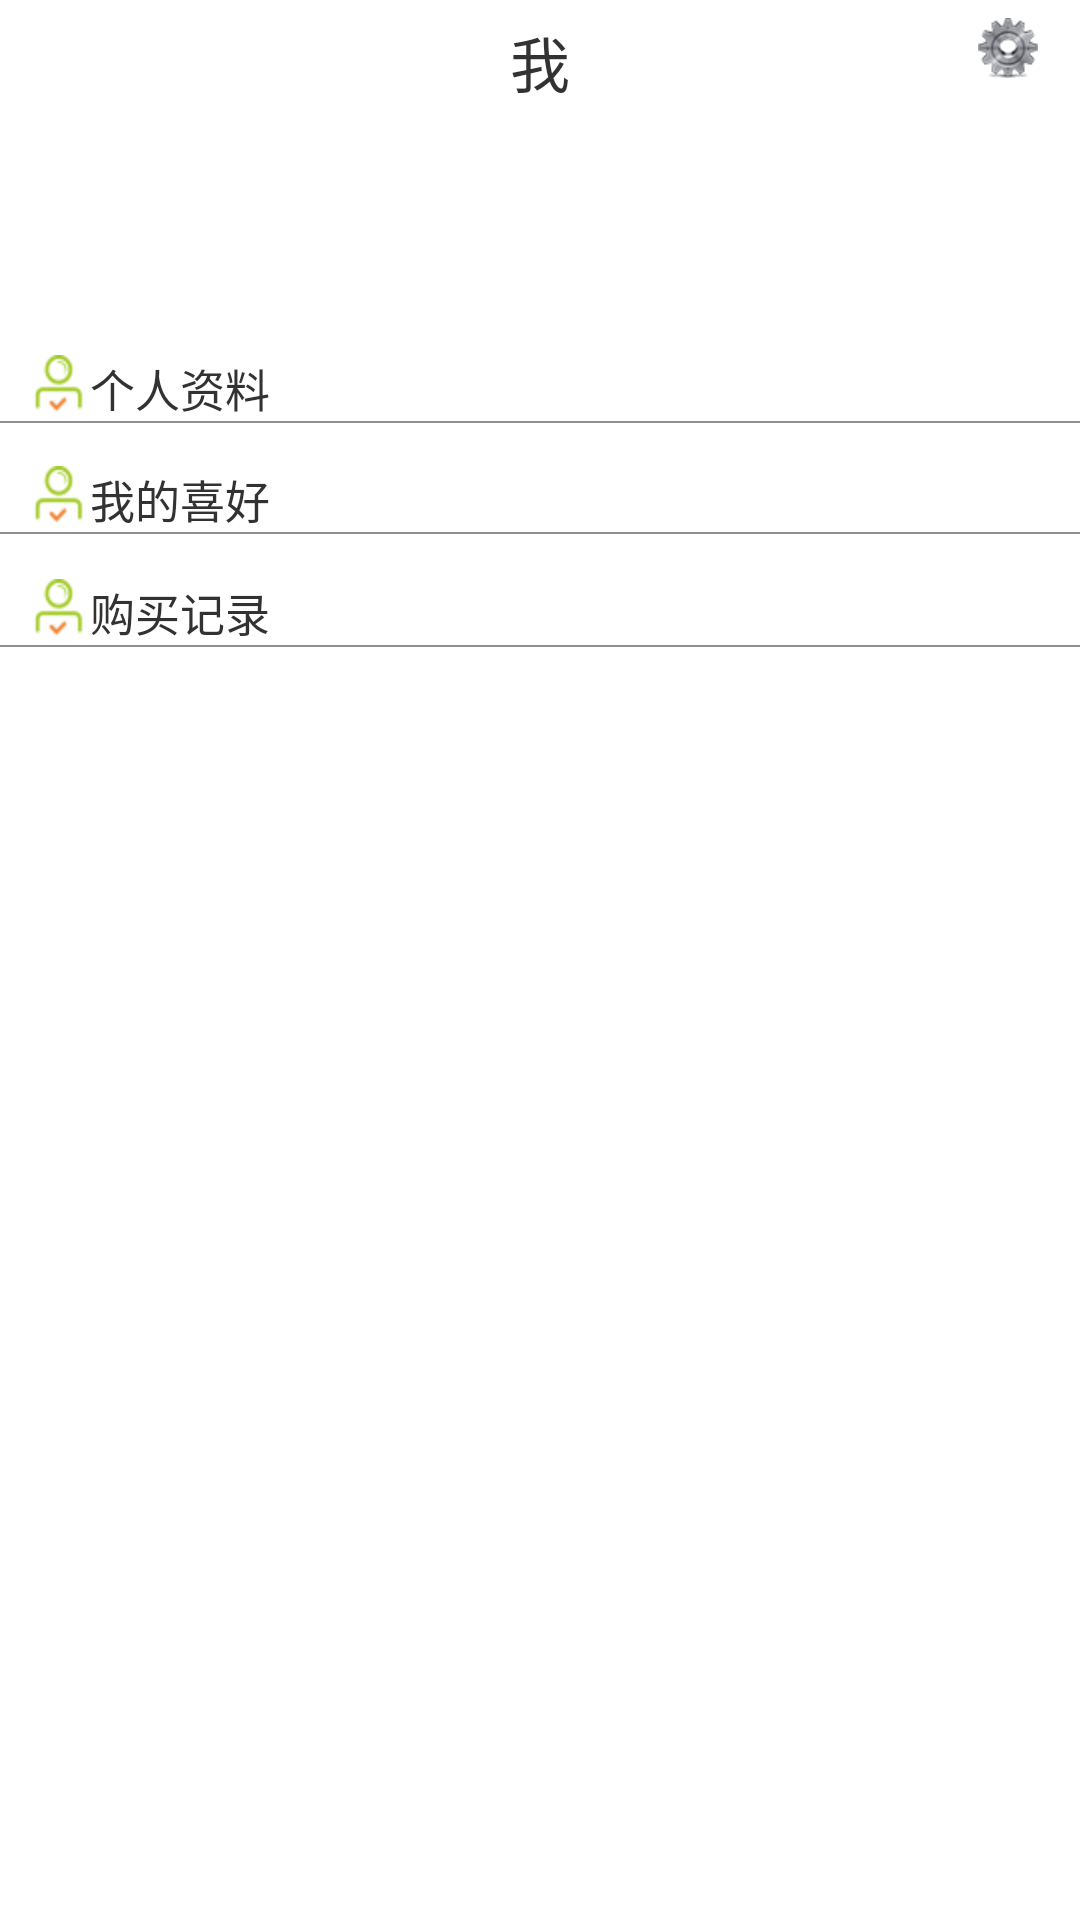

Screen size 1080px x 1920px. Icon name, then its center in pixels as [x,y]:
shezhio: [1008,48]
